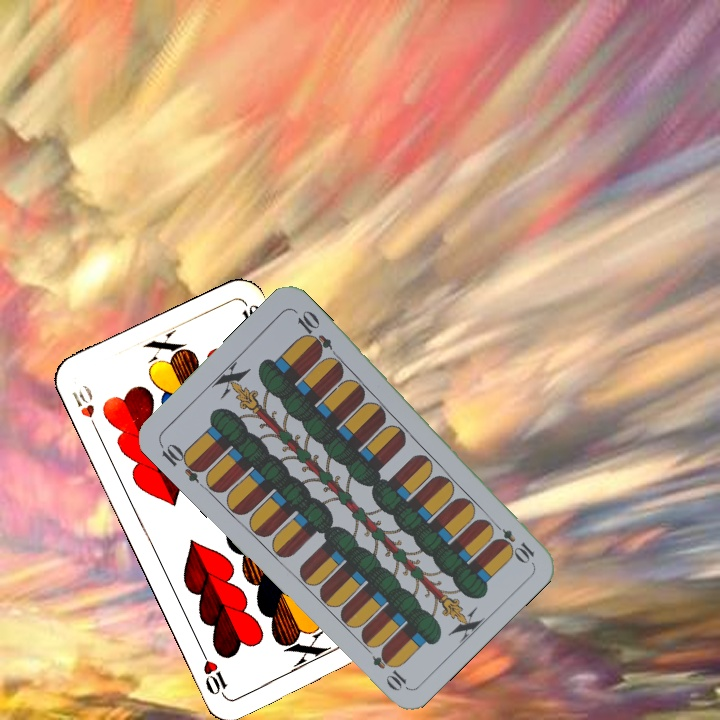E10: (155, 439, 208, 485), (487, 517, 537, 565)
H10: (67, 380, 102, 436)
